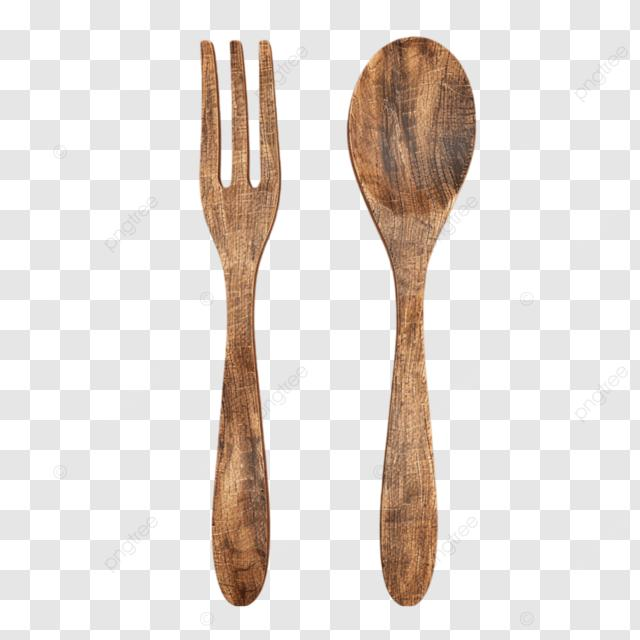Garpu: (168, 32, 320, 618)
Sendok: (335, 27, 480, 613)
